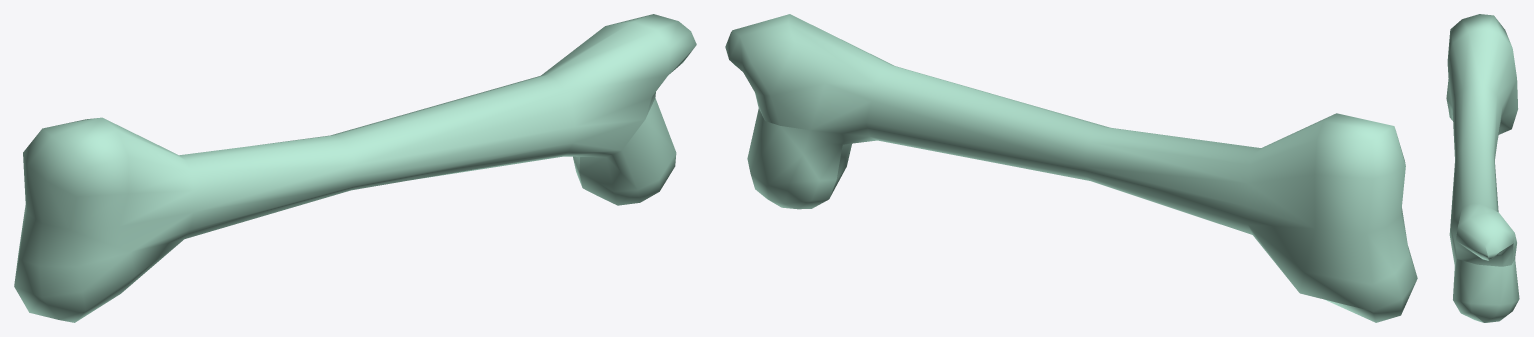
Rendered from Bone.fbx.
3 renders of one model, left to right at view 1: azimuth 30°, elevation 25°; view 2: azimuth 150°, elevation 25°; view 3: azimuth 270°, elevation 25°, orthographic. The views are drawn at different scales.
Parts seen in each view (by area): view 1: Bone_low; view 2: Bone_low; view 3: Bone_low.
Boxes of the visible parts, box(x1,y1,x2,y2) form: Bone_low: box(14, 14, 696, 322); Bone_low: box(725, 14, 1417, 322); Bone_low: box(1446, 14, 1519, 322).
Bounding box in the file's own units: 47.21 × 13.98 × 7.09.
